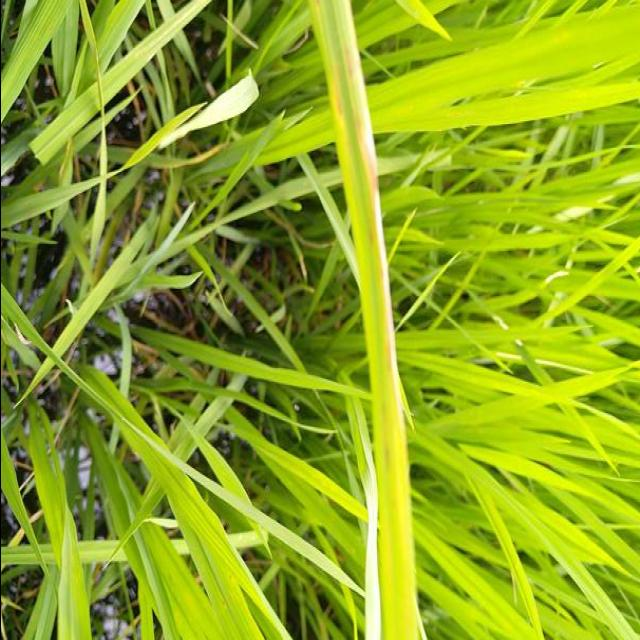Leaf Blight: (305, 0, 420, 640)
